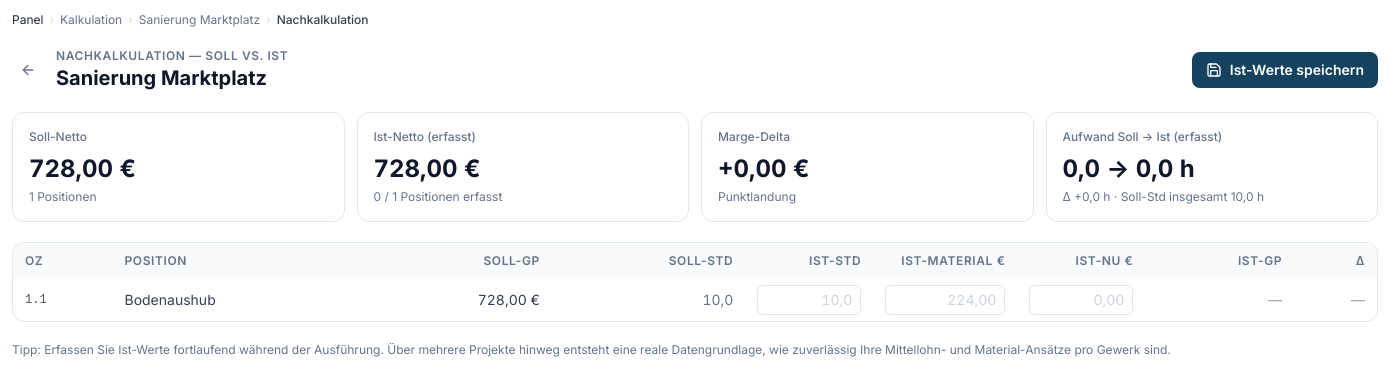
Test: ProjectActuals — NumInput edits › entering material cost updates Ist-GP without changing the hours-based portion
Check: the text "0 / 1 Positionen erfasst" is shown, box [374,189,502,204]
In the field with placeholder "224,00": (945, 300) [885,285,1005,315], type "500"
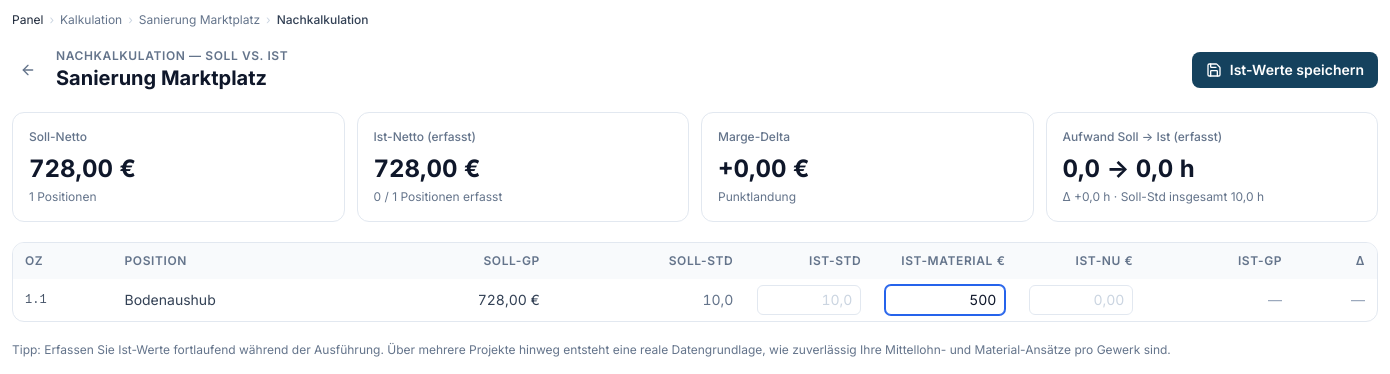
Leave the 2nd field, box [885,285,1005,315]
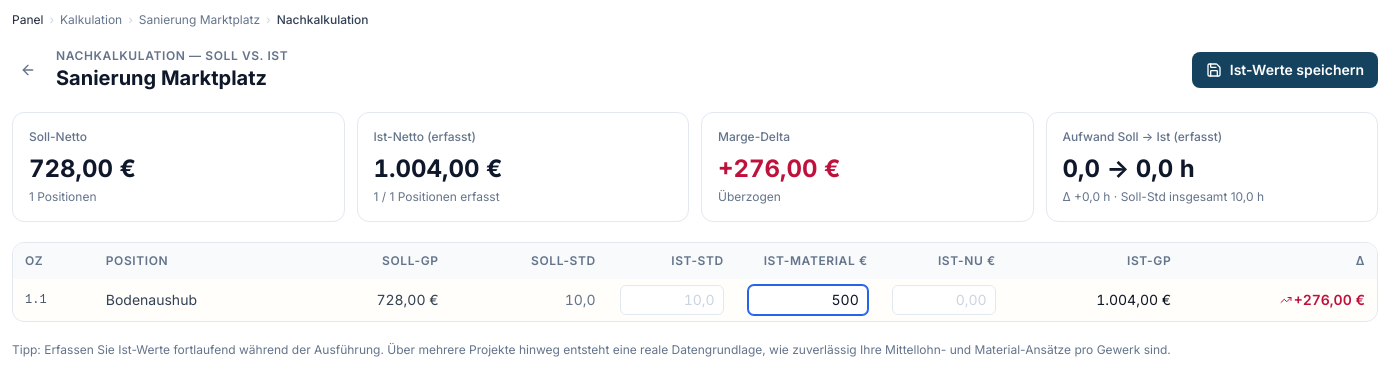
Check: the row "1.1 Bodenaushub 728,00 € 10,0 1.004,00 € +276,00 €" is shown, box [13,279,1377,321]
